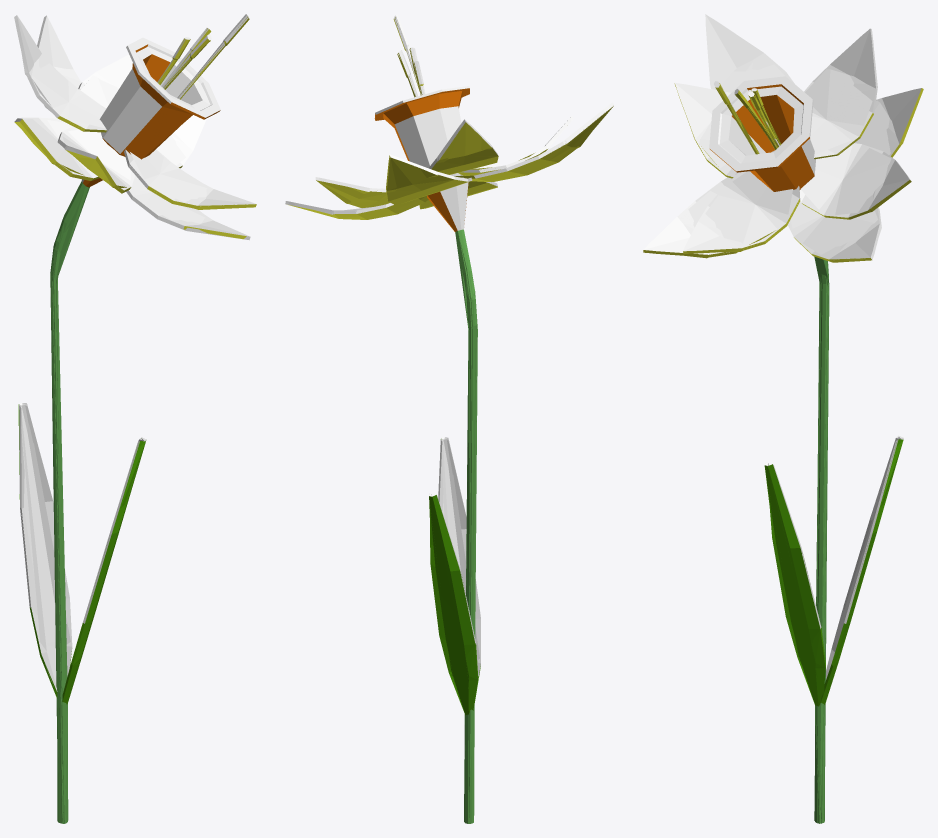
File: Daffodil_2_Snowy.fbx
3 renders of one model, left to right at view 1: azimuth 30°, elevation 25°; view 2: azimuth 150°, elevation 25°; view 3: azimuth 270°, elevation 25°, orthographic. The views are drawn at different scales.
Parts seen in each view (by area): view 1: Daffodil 2_LOD0_Snowy, Daffodil 2_LOD3_Snowy, Daffodil 2_LOD1_Snowy, Daffodil 2_LOD2_Snowy; view 2: Daffodil 2_LOD0_Snowy, Daffodil 2_LOD1_Snowy, Daffodil 2_LOD2_Snowy, Daffodil 2_LOD3_Snowy; view 3: Daffodil 2_LOD0_Snowy, Daffodil 2_LOD3_Snowy, Daffodil 2_LOD1_Snowy, Daffodil 2_LOD2_Snowy.
Boxes of the visible parts, x1,y1,x2,y2 form: Daffodil 2_LOD0_Snowy: [15, 14, 255, 823]; Daffodil 2_LOD3_Snowy: [16, 19, 210, 823]; Daffodil 2_LOD1_Snowy: [14, 15, 256, 823]; Daffodil 2_LOD2_Snowy: [14, 25, 256, 823]; Daffodil 2_LOD0_Snowy: [288, 14, 609, 823]; Daffodil 2_LOD1_Snowy: [285, 16, 613, 822]; Daffodil 2_LOD2_Snowy: [292, 29, 614, 817]; Daffodil 2_LOD3_Snowy: [288, 131, 592, 821]; Daffodil 2_LOD0_Snowy: [643, 14, 921, 823]; Daffodil 2_LOD3_Snowy: [645, 64, 900, 823]; Daffodil 2_LOD1_Snowy: [643, 16, 919, 823]; Daffodil 2_LOD2_Snowy: [684, 28, 923, 823].
Bounding box in the file's own units: 23.05 × 64.85 × 20.52.
